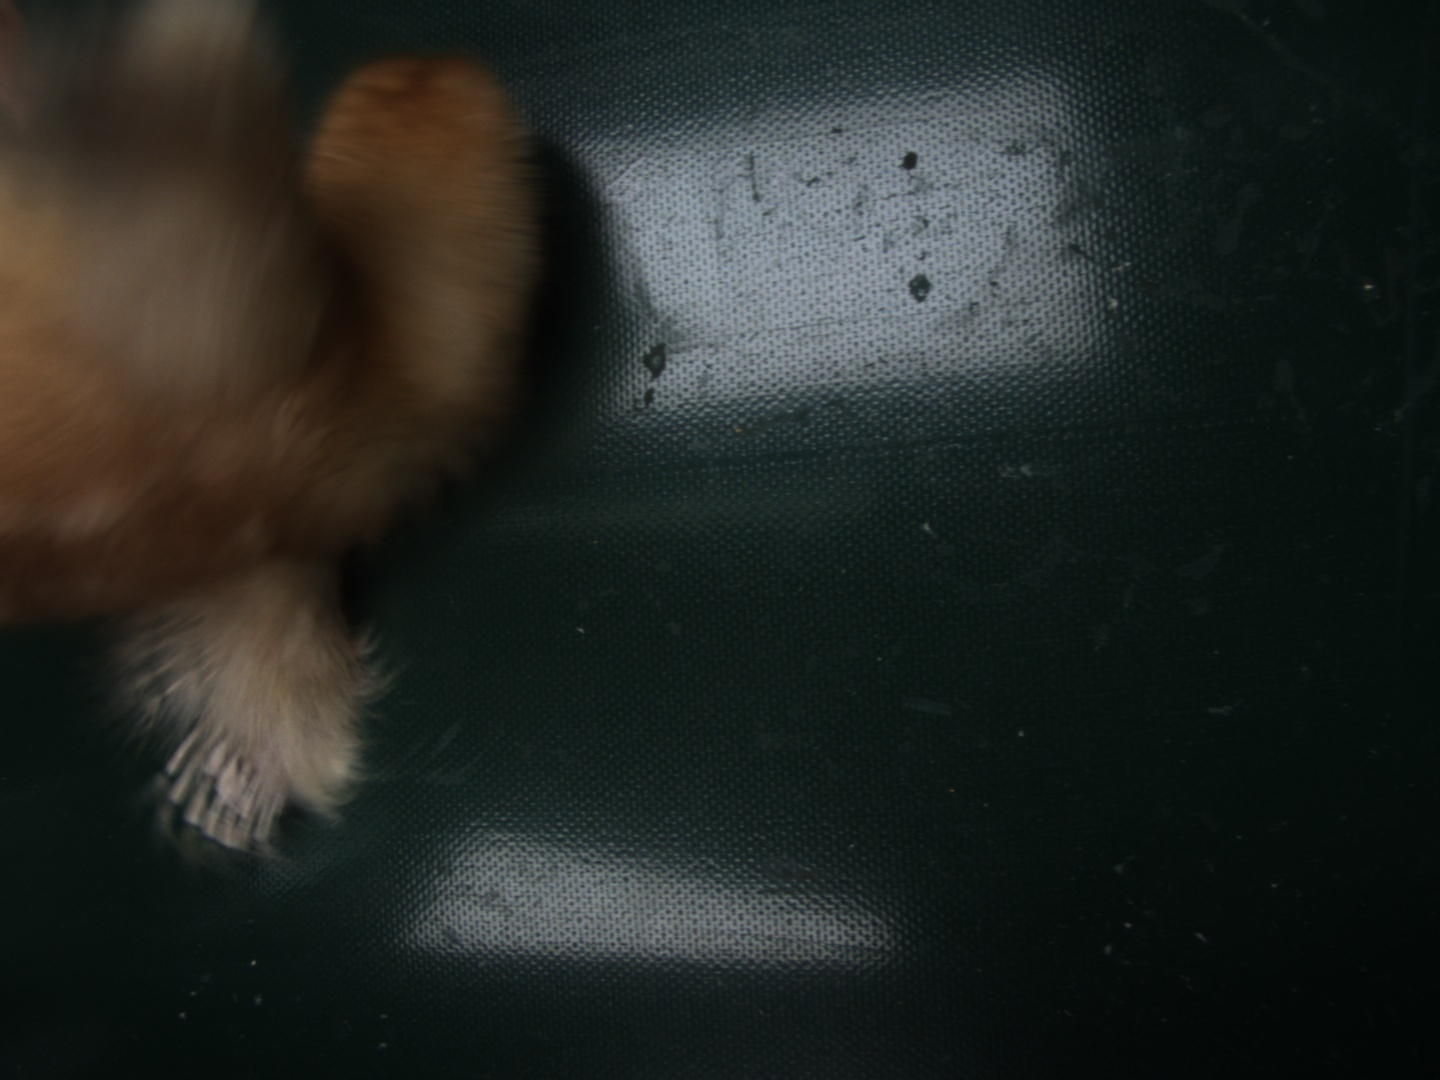female: (162, 726, 283, 851)
